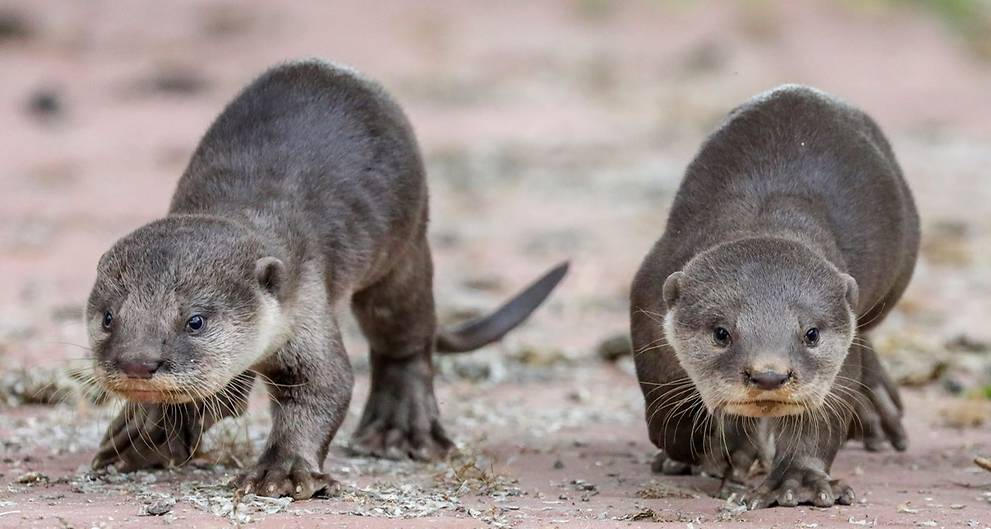otter: (89, 43, 511, 525), (624, 72, 954, 529)
